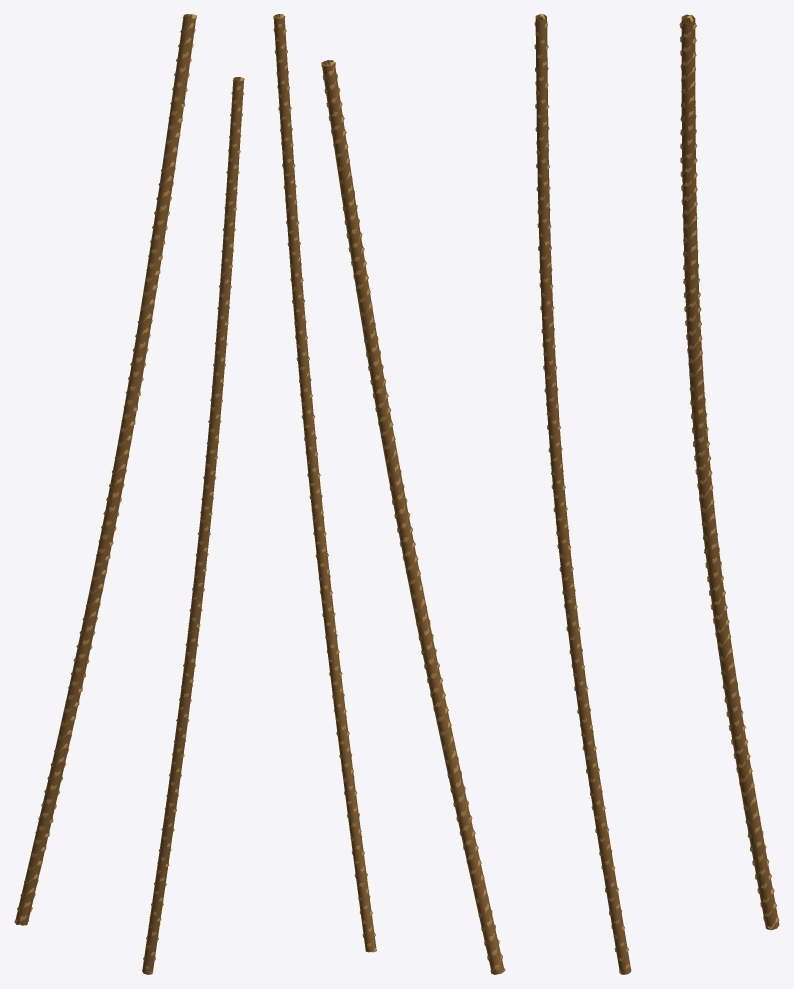
Rendered from SM_Menu_FlyRopes.fbx.
3 views of the same model, side by side, from view 1: azimuth 30°, elevation 25°; view 2: azimuth 210°, elevation 25°; view 3: azimuth 270°, elevation 25° (orthographic). The views are drawn at different scales.
Parts seen in each view (by area): view 1: Rope core.015_Baked; view 2: Rope core.015_Baked; view 3: Rope core.015_Baked.
Part boxes in pixels (x1,y1,x2,y2): Rope core.015_Baked: [14, 14, 244, 974]; Rope core.015_Baked: [273, 14, 505, 974]; Rope core.015_Baked: [534, 14, 779, 974].
Size of the model in its own units: 73.68 by 102 by 456.
